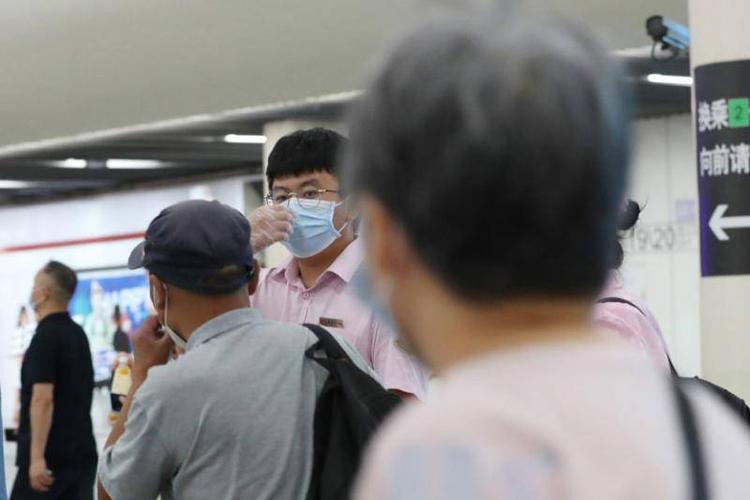mask: (262, 147, 342, 264)
